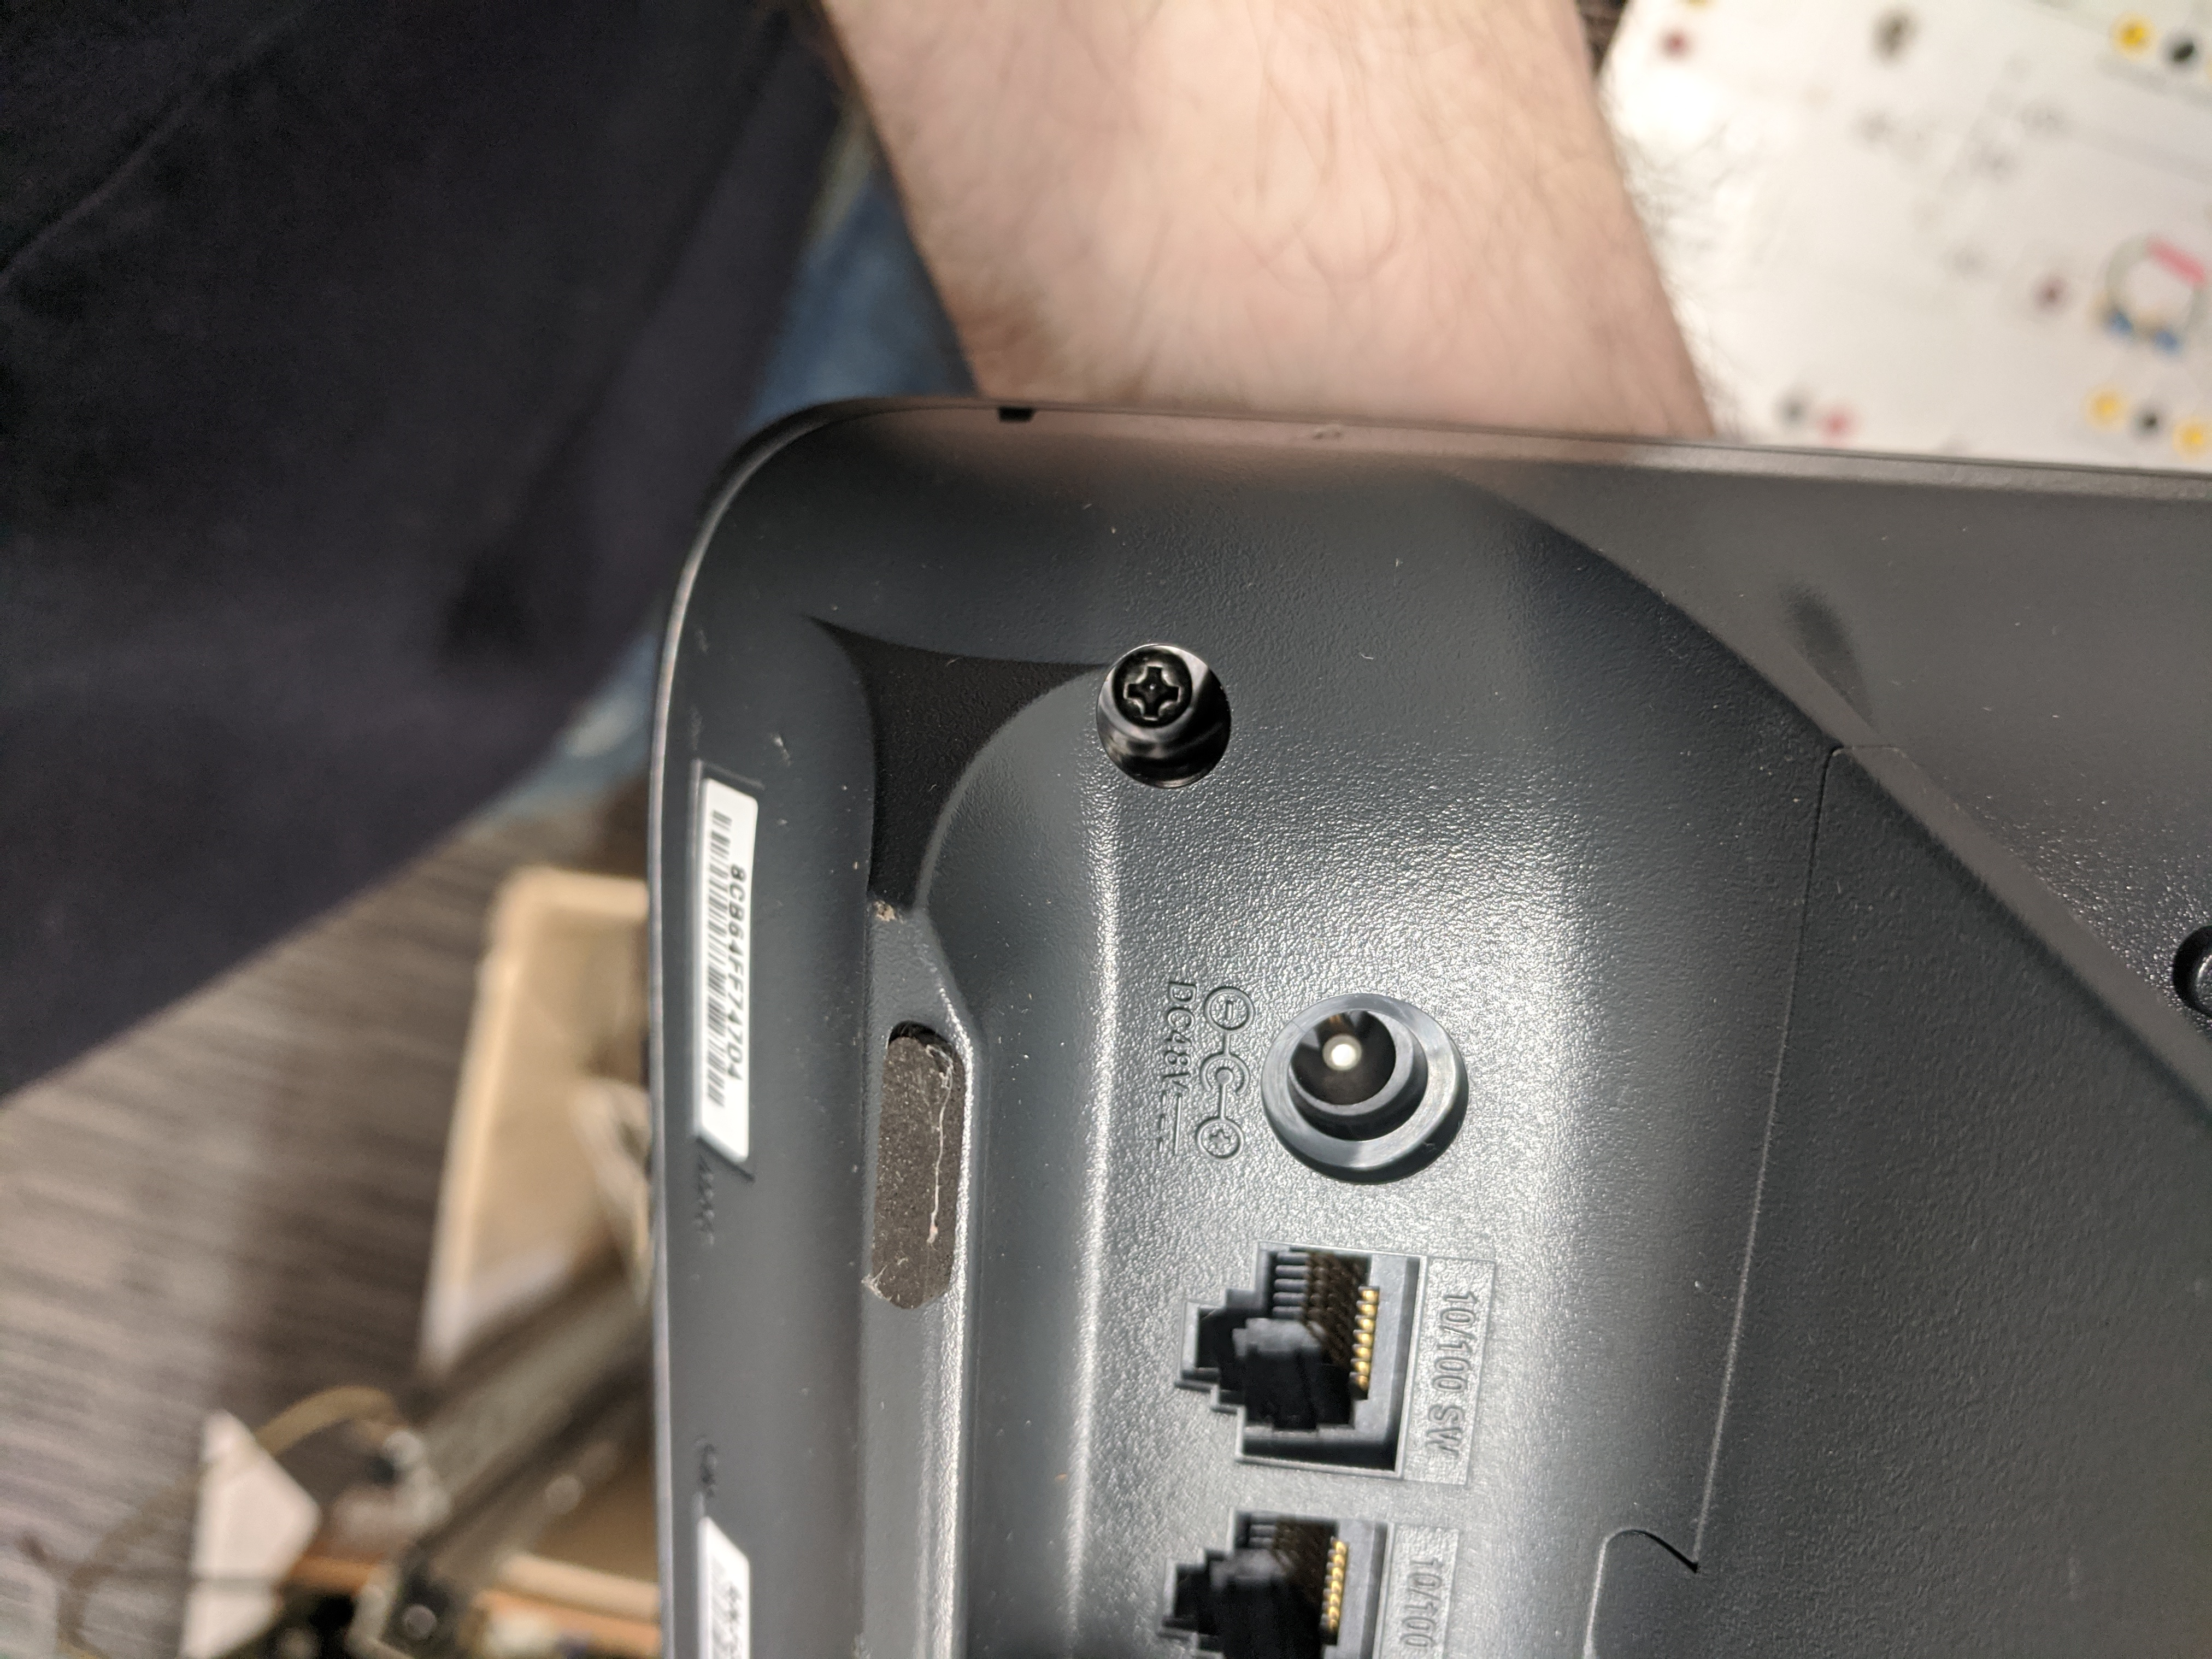cross_recessed_screw: (1108, 638, 1195, 744)
